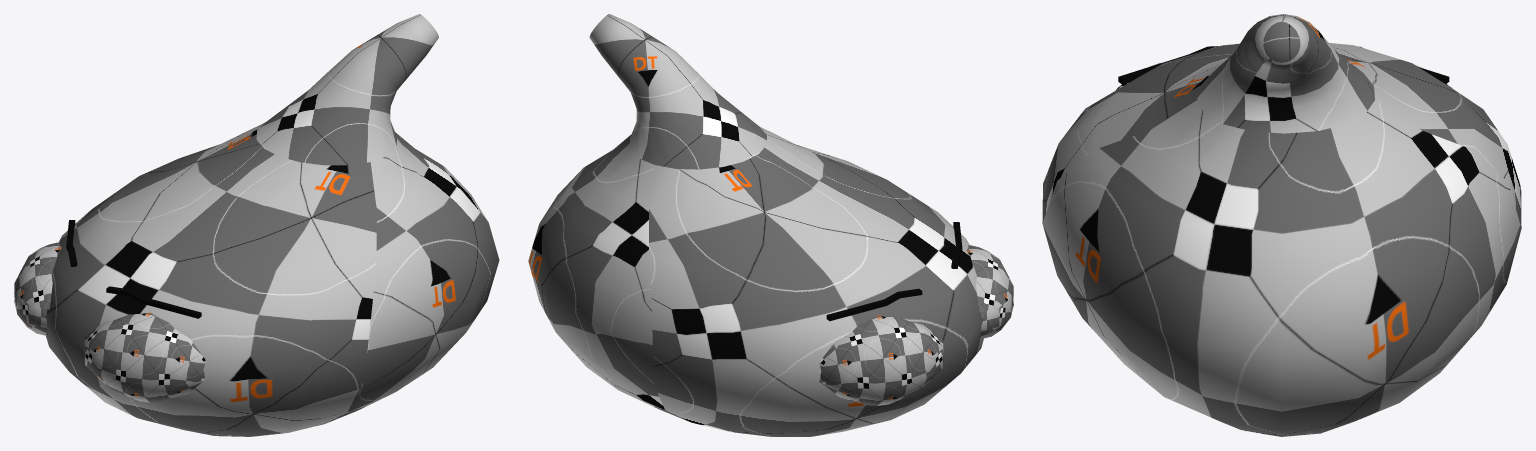
File: blob_idle_anim.FBX
3 renders of one model, left to right at view 1: azimuth 30°, elevation 25°; view 2: azimuth 150°, elevation 25°; view 3: azimuth 270°, elevation 25°, orthographic. The views are drawn at different scales.
Parts seen in each view (by area): view 1: LP_Blob, LP_Right_Eye, LP_Right_Eye001, LP_sourcile_droit; view 2: LP_Blob, LP_Right_Eye001, LP_Right_Eye, LP_Sourcile_gauche; view 3: LP_Blob.
Boxes of the visible parts, x1=… form: LP_Blob: x1=45, y1=14, x2=499, y2=436; LP_Right_Eye: x1=84, y1=312, x2=205, y2=402; LP_Right_Eye001: x1=14, y1=242, x2=61, y2=335; LP_sourcile_droit: x1=106, y1=286, x2=201, y2=318; LP_Blob: x1=528, y1=14, x2=983, y2=436; LP_Right_Eye001: x1=819, y1=315, x2=943, y2=405; LP_Right_Eye: x1=966, y1=245, x2=1013, y2=338; LP_Sourcile_gauche: x1=826, y1=288, x2=922, y2=321; LP_Blob: x1=1042, y1=14, x2=1521, y2=436.
Bounding box in the file's own units: 281 × 226 × 215.
Materials: 3 (2 with a texture image).
